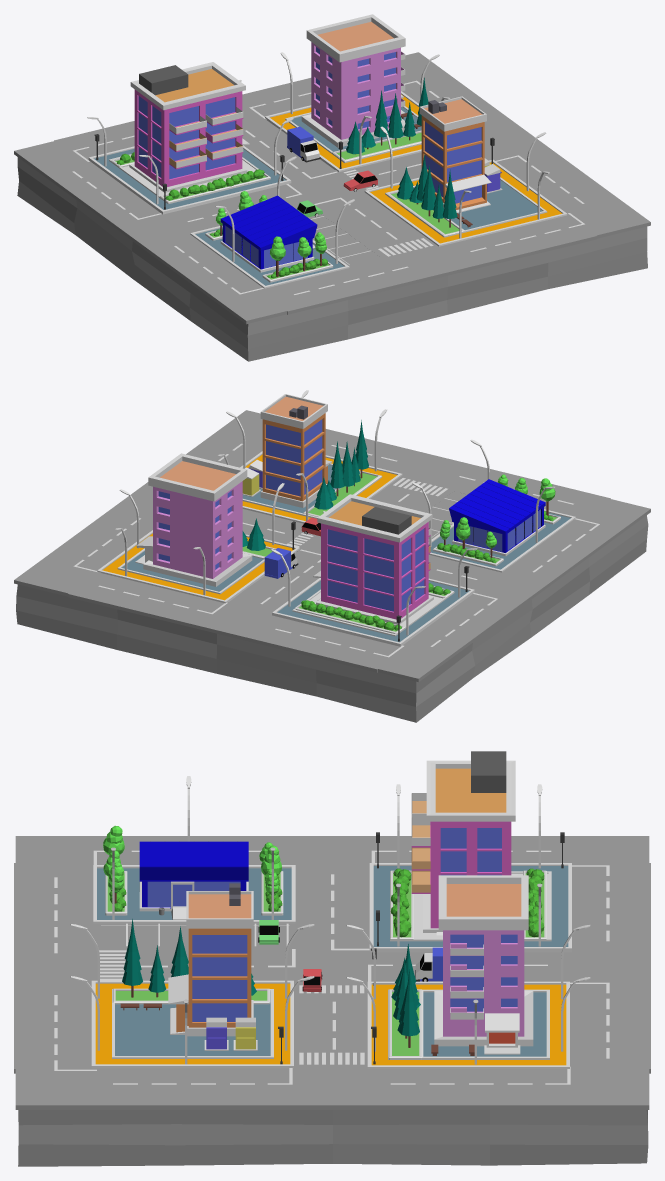
The model's file is City.fbx.
The picture shows the model from 3 angles, top to bottom: view 1: azimuth 30°, elevation 25°; view 2: azimuth 150°, elevation 25°; view 3: azimuth 270°, elevation 25°; orthographic projection. The views are drawn at different scales.
Parts seen in each view (by area): view 1: ROAD, Floor_4, House, House_1, House_2, Shop, Floor_2, Floor, Floor.4_2, ROAD.Lines.12, Floor.4_3, Floor_1 (+8 smaller); view 2: ROAD, Floor_4, House, House_1, House_2, Shop, Floor, Floor_1, ROAD.Lines.12, Floor.4_3, Floor_2, Floor.4_1 (+6 smaller); view 3: ROAD, Floor_4, House_1, House, House_2, Shop, Floor.4_2, Floor_2, Floor_1, Floor, ROAD.Lines.12, Floor.4_3 (+13 smaller).
Part boxes in pixels (x1,y1,x2,y2): ROAD: [14, 52, 650, 324]; Floor_4: [17, 128, 647, 361]; House: [129, 62, 249, 192]; House_1: [301, 14, 405, 147]; House_2: [419, 96, 491, 212]; Shop: [220, 195, 317, 272]; Floor_2: [364, 159, 567, 246]; Floor: [88, 145, 291, 214]; Floor.4_2: [385, 177, 547, 237]; ROAD.Lines.12: [72, 80, 584, 294]; Floor.4_3: [190, 225, 349, 288]; Floor_1: [265, 91, 421, 172]; ROAD: [14, 410, 650, 681]; Floor_4: [16, 515, 648, 722]; House: [313, 494, 433, 624]; House_1: [135, 453, 252, 586]; House_2: [260, 394, 332, 507]; Shop: [449, 479, 545, 556]; Floor: [272, 578, 474, 646]; Floor_1: [97, 530, 299, 603]; ROAD.Lines.12: [73, 443, 599, 657]; Floor.4_3: [428, 509, 575, 572]; Floor_2: [240, 451, 402, 523]; Floor.4_1: [117, 548, 264, 594]; ROAD: [14, 836, 650, 1109]; Floor_4: [18, 1110, 648, 1166]; House_1: [434, 875, 533, 1054]; House: [411, 751, 518, 935]; House_2: [168, 883, 253, 1036]; Shop: [139, 841, 248, 919]; Floor.4_2: [112, 989, 273, 1058]; Floor_2: [91, 980, 293, 1068]; Floor_1: [367, 981, 569, 1068]; Floor: [369, 863, 571, 952]; ROAD.Lines.12: [54, 850, 609, 1084]; Floor.4_3: [93, 865, 295, 923].
Size of the model in its own units: 219216 by 74420 by 219216.
